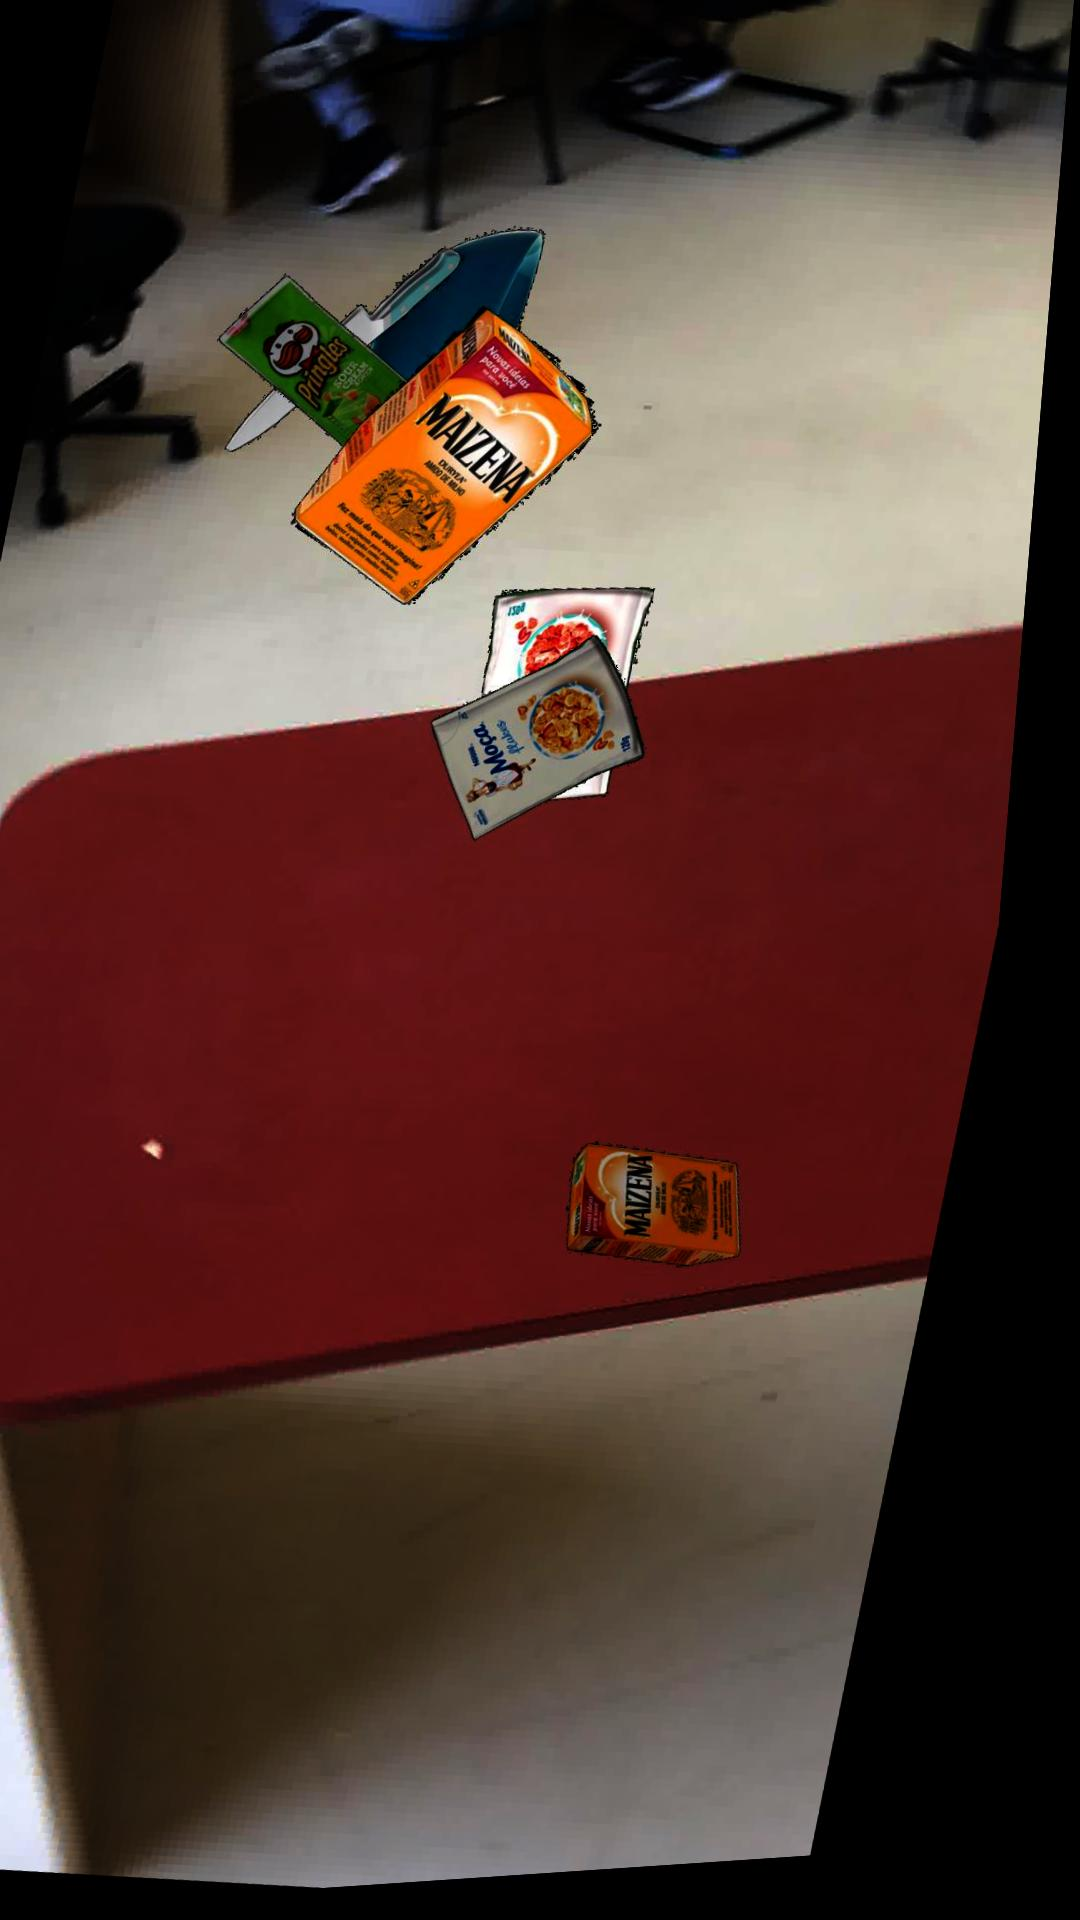bowl: (377, 233, 550, 384)
corn flakes: (444, 642, 658, 845), (496, 595, 666, 807)
knife: (233, 252, 469, 452)
pringles: (224, 277, 415, 448)
